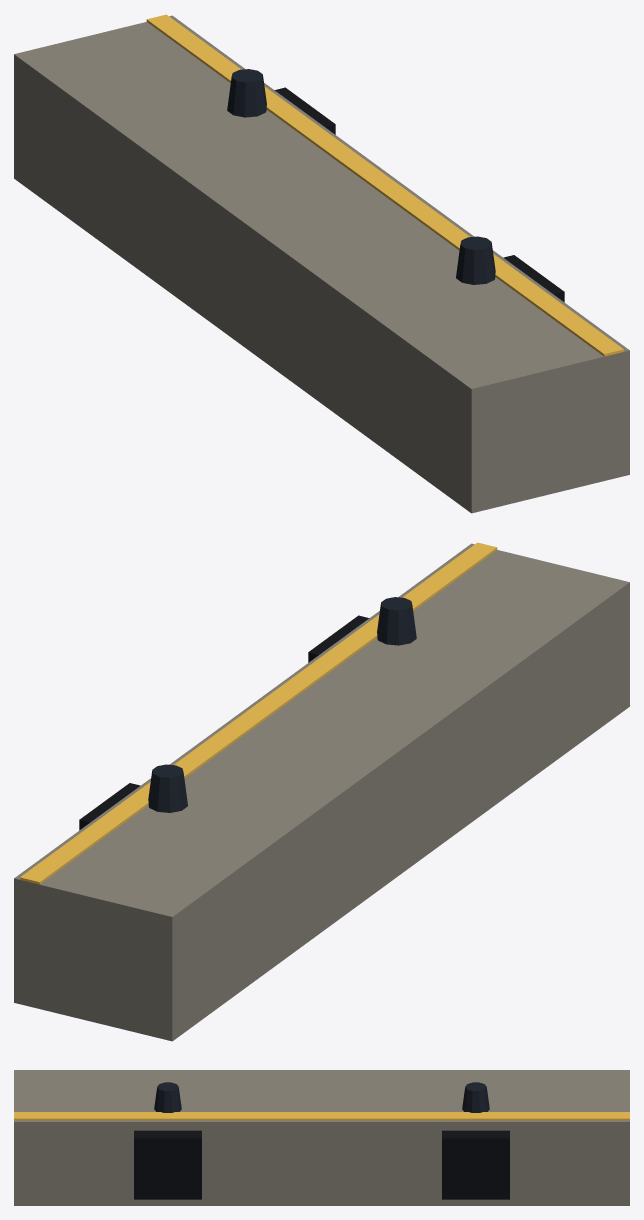
Rendered from quay_edge.glb.
The picture shows the model from 3 angles, top to bottom: view 1: azimuth 30°, elevation 25°; view 2: azimuth 150°, elevation 25°; view 3: azimuth 270°, elevation 25°; orthographic projection. The views are drawn at different scales.
Parts seen in each view (by area): view 1: quay; view 2: quay; view 3: quay.
Boxes of the visible parts, left/top/right/bottom form: quay: left=14, top=14, right=629, bottom=513; quay: left=14, top=542, right=629, bottom=1041; quay: left=14, top=1070, right=629, bottom=1205.
Bounding box in the file's own units: 4.6 × 3.8 × 20.
